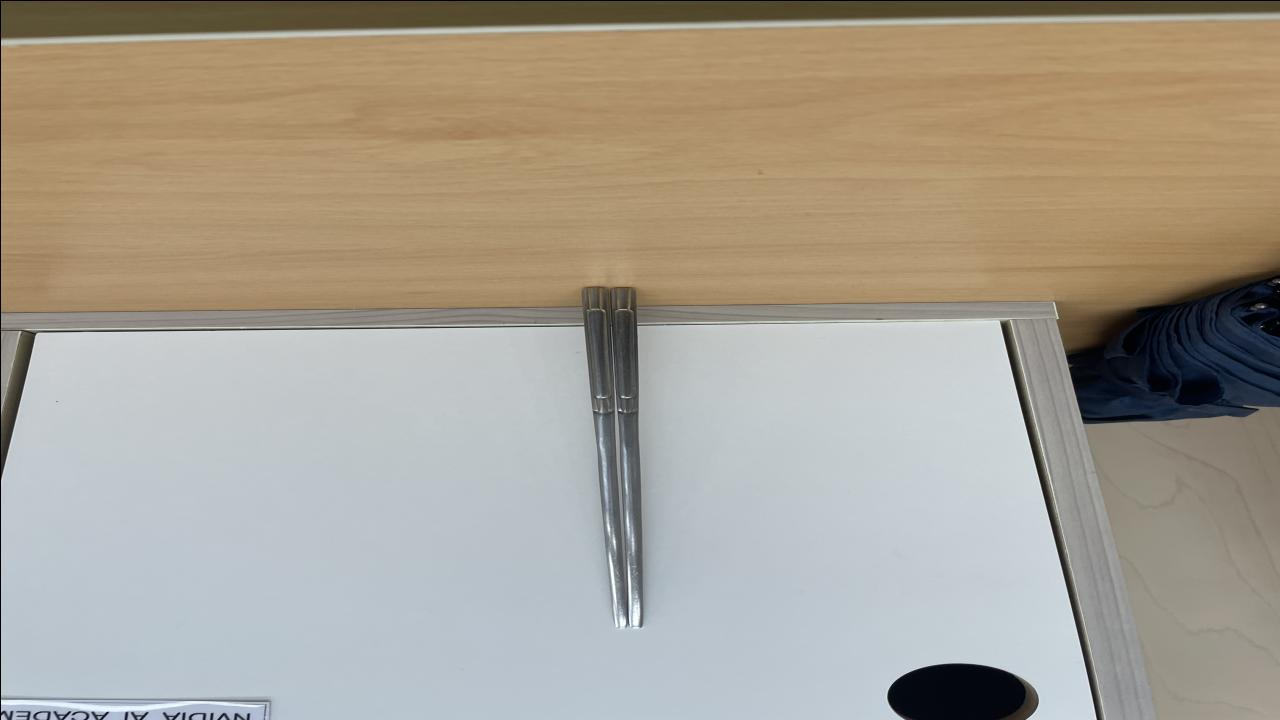chopstick: (577, 287, 641, 625)
